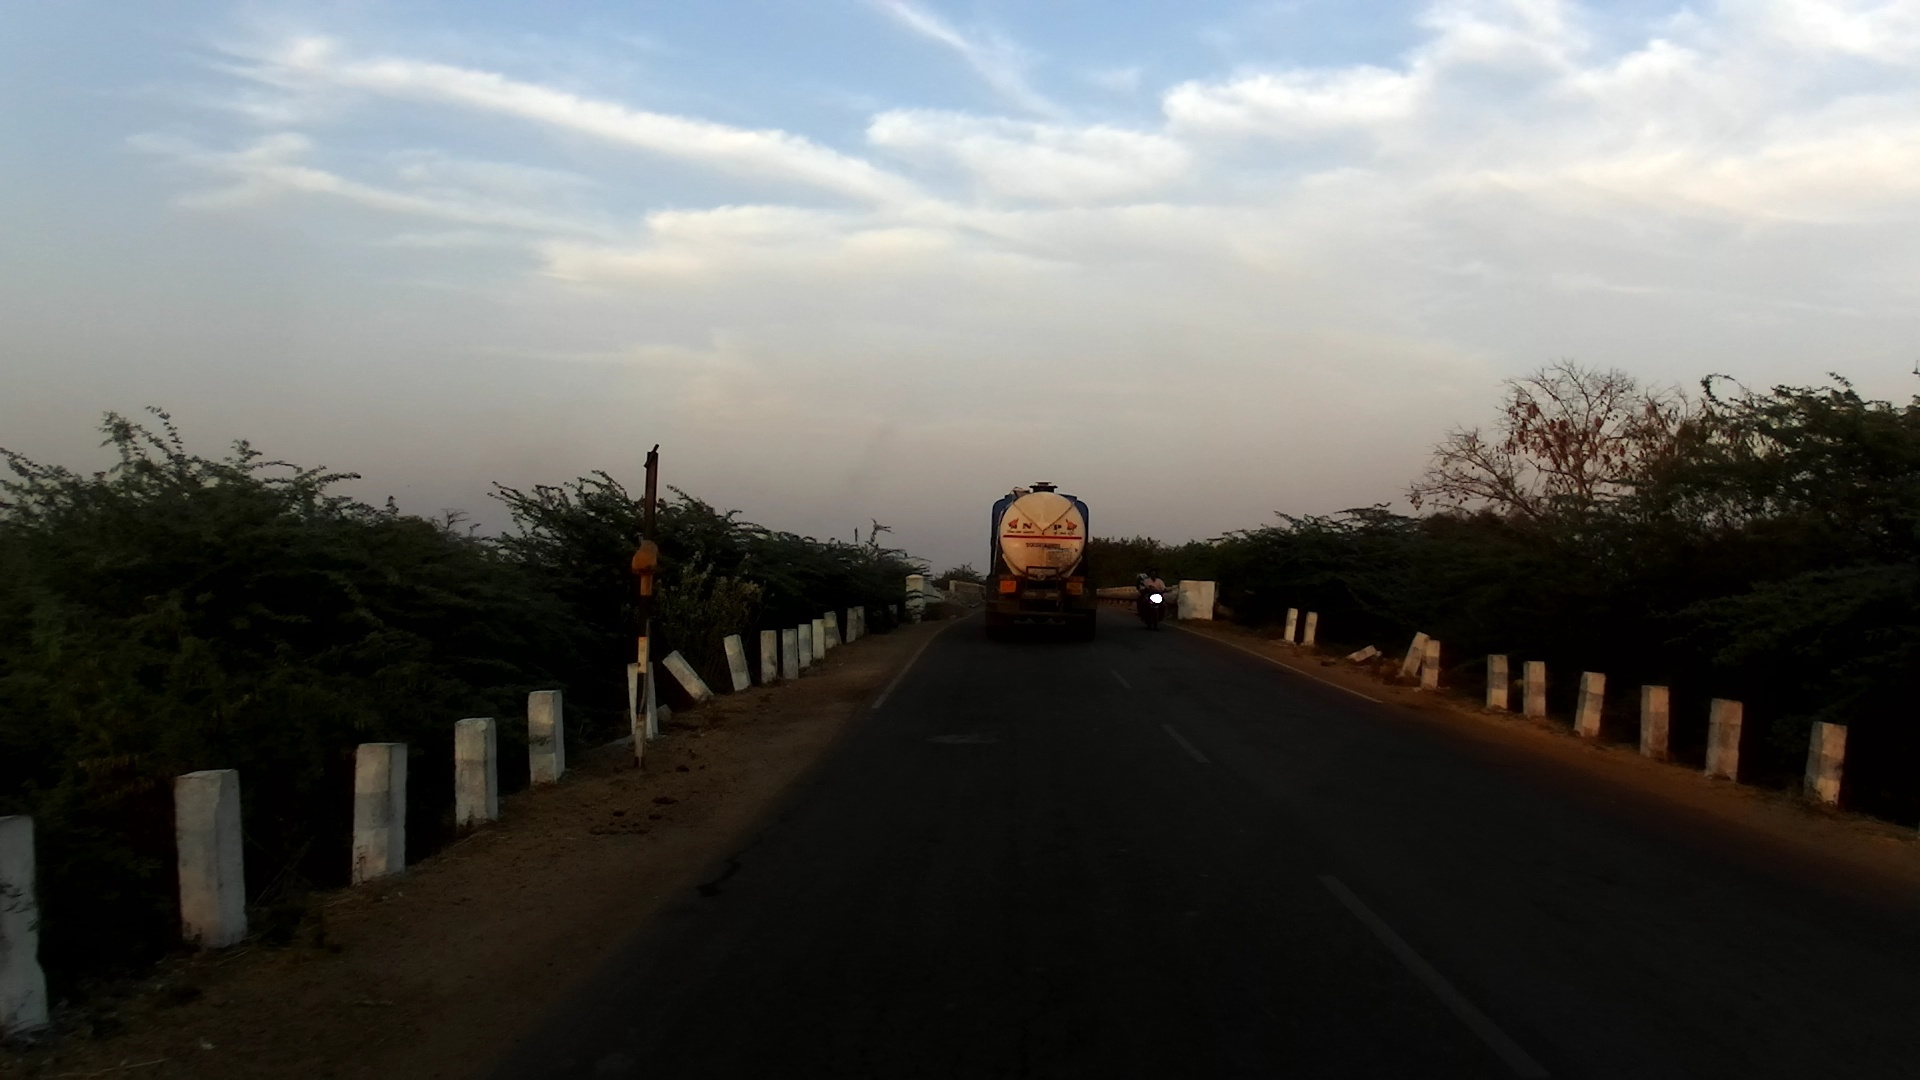motorcycle: (1135, 583, 1174, 634)
rider: (1138, 563, 1171, 634)
truck: (983, 483, 1104, 646)
